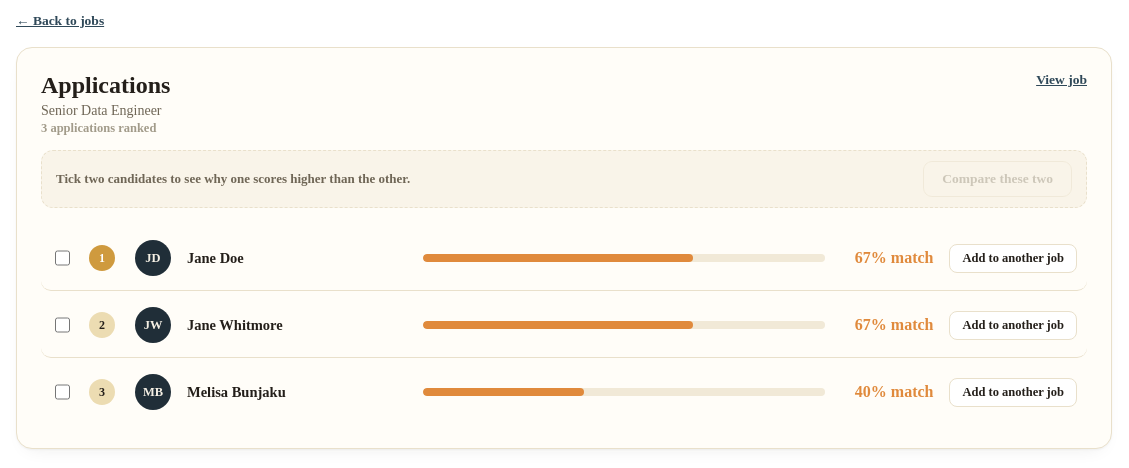
Scenario: JobMatchesPage › Compare two candidates › refuses a third pick and can be cleared
Expected: the link "Jane Doe" is shown, [187,250,244,266]
Click the checkbox named "Select Jane Doe to compare" at (62, 258), box [55,250,70,266]
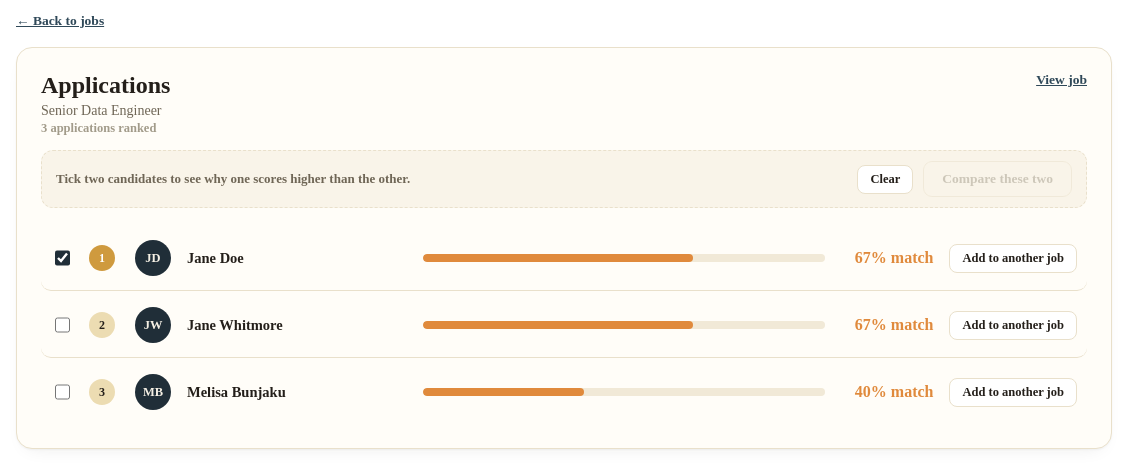
Click the checkbox named "Select Jane Whitmore to compare" at (62, 325), box [55,317,70,333]
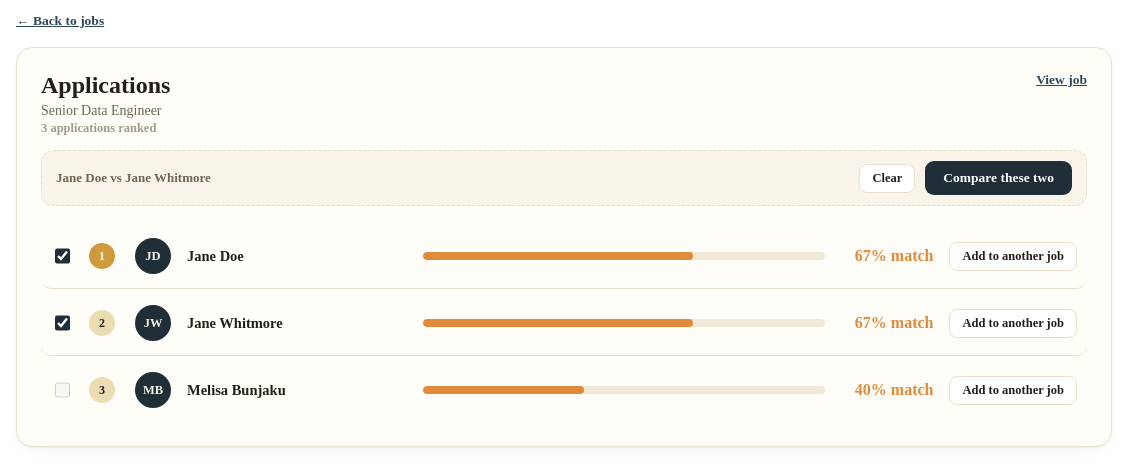
Expected: the checkbox named "Select Melisa Bunjaku to compare" is disabled, [55,382,70,398]
Click the button "Clear" at (887, 178), box [859,164,915,192]
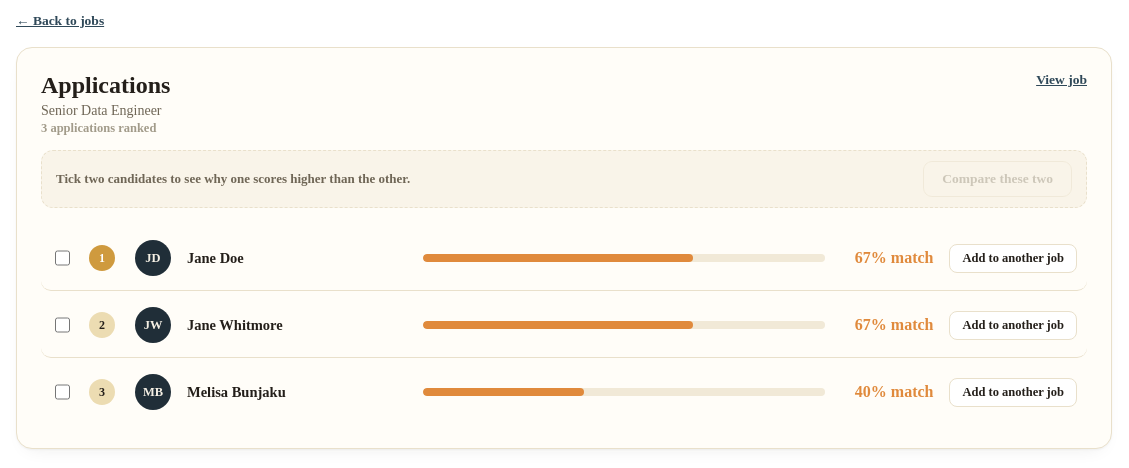
Expected: the button "Compare these two" is disabled, [923,161,1072,197]
Expected: the checkbox named "Select Melisa Bunjaku to compare" is enabled, [55,384,70,400]
